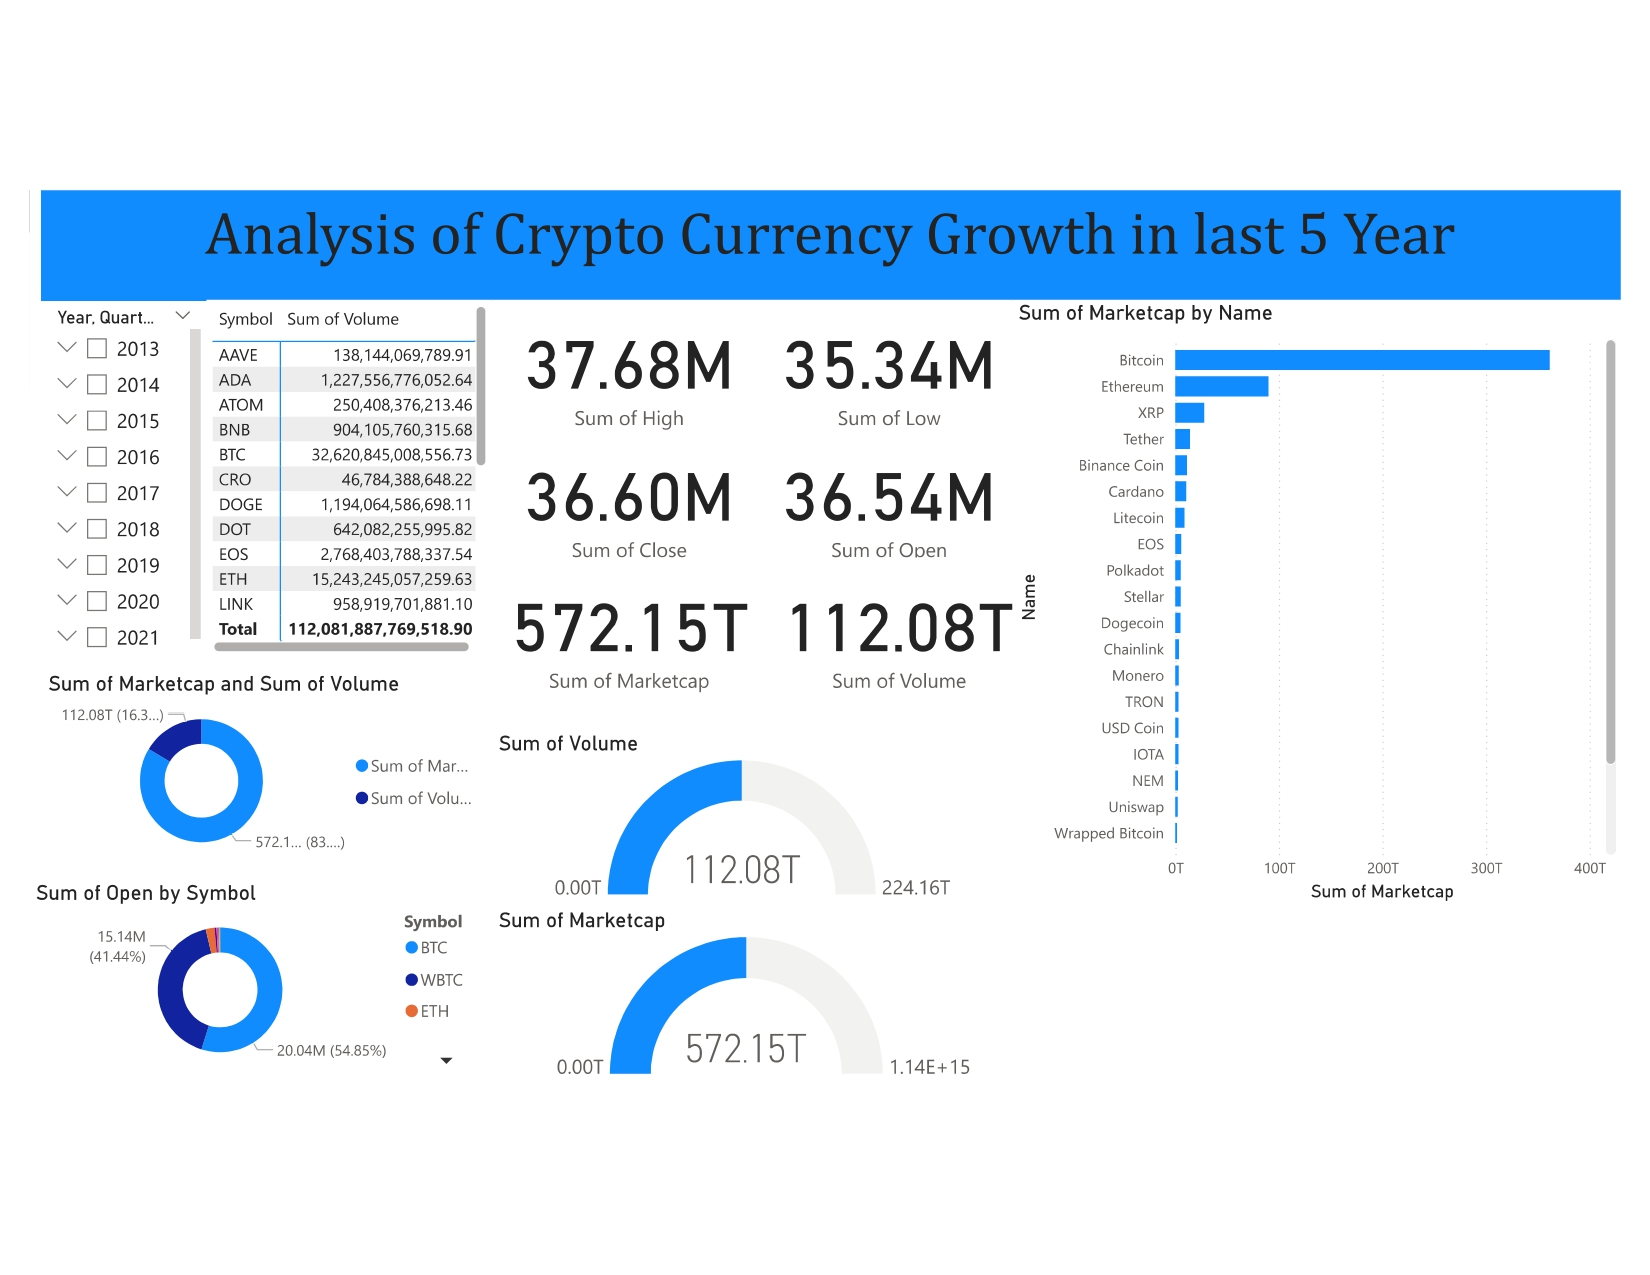

This screenshot's page, from the dashboard's own definition file:
{"tool":"powerbi","page":{"name":"Page 1","canvas":[1280,720],"ordinal":0},"visuals":[{"type":"textbox","box":[9.5,0,1269.9,89],"z":0},{"type":"slicer","fields":{"Values":["CryptoData.Date.Variation.Date Hierarchy.Year","CryptoData.Date.Variation.Date Hierarchy.Quarter","CryptoData.Date.Variation.Date Hierarchy.Month","CryptoData.Date.Variation.Date Hierarchy.Day"]},"box":[9.5,89,132.5,287.7],"z":1000},{"type":"pivotTable","fields":{"Rows":["CryptoData.Symbol"],"Values":["Sum(CryptoData.Volume)"]},"box":[142,88,230,288],"z":2000},{"type":"donutChart","fields":{"Y":["Sum(CryptoData.Marketcap)","Sum(CryptoData.Volume)"]},"box":[10,386,362,158],"z":3000},{"type":"donutChart","fields":{"Y":["Sum(CryptoData.Open)"],"Category":["CryptoData.Symbol"]},"box":[0,554,372,158],"z":4000},{"type":"card","fields":{"Values":["Sum(CryptoData.High)"]},"box":[372,88,220,112],"z":5000},{"type":"card","fields":{"Values":["Sum(CryptoData.Marketcap)"]},"box":[372,300,220,110],"z":6000},{"type":"card","fields":{"Values":["Sum(CryptoData.Low)"]},"box":[592,88,198,112],"z":7000},{"type":"card","fields":{"Values":["Sum(CryptoData.Open)"]},"box":[592,200,198,100],"z":8000},{"type":"card","fields":{"Values":["Sum(CryptoData.Volume)"]},"box":[592,300,214,110],"z":9000},{"type":"card","fields":{"Values":["Sum(CryptoData.Close)"]},"box":[372,200,220,100],"z":10000},{"type":"gauge","fields":{"Y":["Sum(CryptoData.Marketcap)"]},"box":[372,576,436,136],"z":11000},{"type":"gauge","fields":{"Y":["Sum(CryptoData.Volume)"]},"box":[372,436,418,140],"z":12000},{"type":"clusteredBarChart","fields":{"Y":["Sum(CryptoData.Marketcap)"],"Category":["CryptoData.Name"]},"box":[790,110,490,560],"z":13000}]}

Visuals, with their boxes on the page's 1280x720 design canvas (x1, y1, x2, y2). These are canvas units, not pixel positions in the 1650x1275 screenshot, which may show the page scaled, cropped or inside an application window:
textbox: x1=10 y1=0 x2=1279 y2=89
slicer - CryptoData.Date.Variation.Date Hierarchy.Year x CryptoData.Date.Variation.Date Hierarchy.Quarter: x1=10 y1=89 x2=142 y2=377
pivotTable - CryptoData.Symbol x Sum(CryptoData.Volume): x1=142 y1=88 x2=372 y2=376
donutChart - Sum(CryptoData.Marketcap) x Sum(CryptoData.Volume): x1=10 y1=386 x2=372 y2=544
donutChart - Sum(CryptoData.Open) x CryptoData.Symbol: x1=0 y1=554 x2=372 y2=712
card - Sum(CryptoData.High): x1=372 y1=88 x2=592 y2=200
card - Sum(CryptoData.Marketcap): x1=372 y1=300 x2=592 y2=410
card - Sum(CryptoData.Low): x1=592 y1=88 x2=790 y2=200
card - Sum(CryptoData.Open): x1=592 y1=200 x2=790 y2=300
card - Sum(CryptoData.Volume): x1=592 y1=300 x2=806 y2=410
card - Sum(CryptoData.Close): x1=372 y1=200 x2=592 y2=300
gauge - Sum(CryptoData.Marketcap): x1=372 y1=576 x2=808 y2=712
gauge - Sum(CryptoData.Volume): x1=372 y1=436 x2=790 y2=576
clusteredBarChart - Sum(CryptoData.Marketcap) x CryptoData.Name: x1=790 y1=110 x2=1280 y2=670
